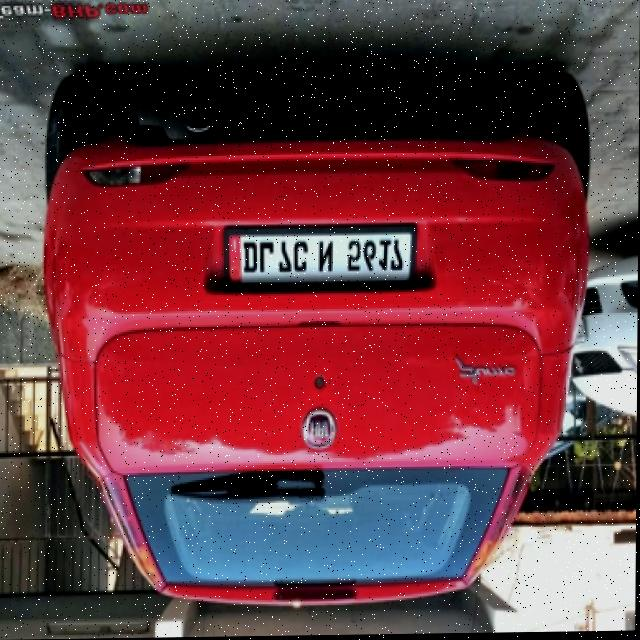plate: (223, 226, 417, 290)
